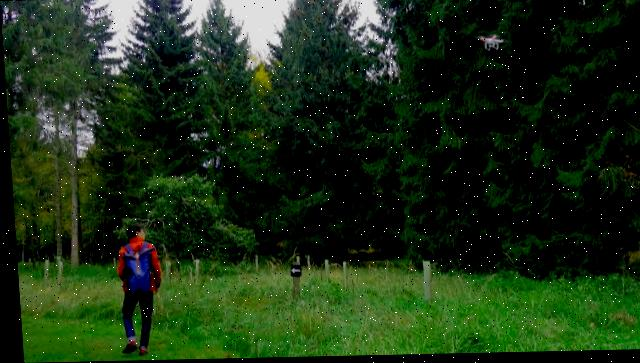drone: (477, 33, 504, 54)
